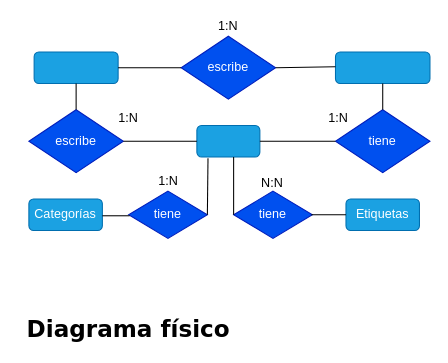
Image size: 448x363. Some labels were removed from this diagram. The shapes that lost their labels are listed below. From the top down, each one's centre as x and y in pixels, then its label:
At (75,67): "Usuarios".
At (382,67): "Comentarios".
At (228,140): "Post".
